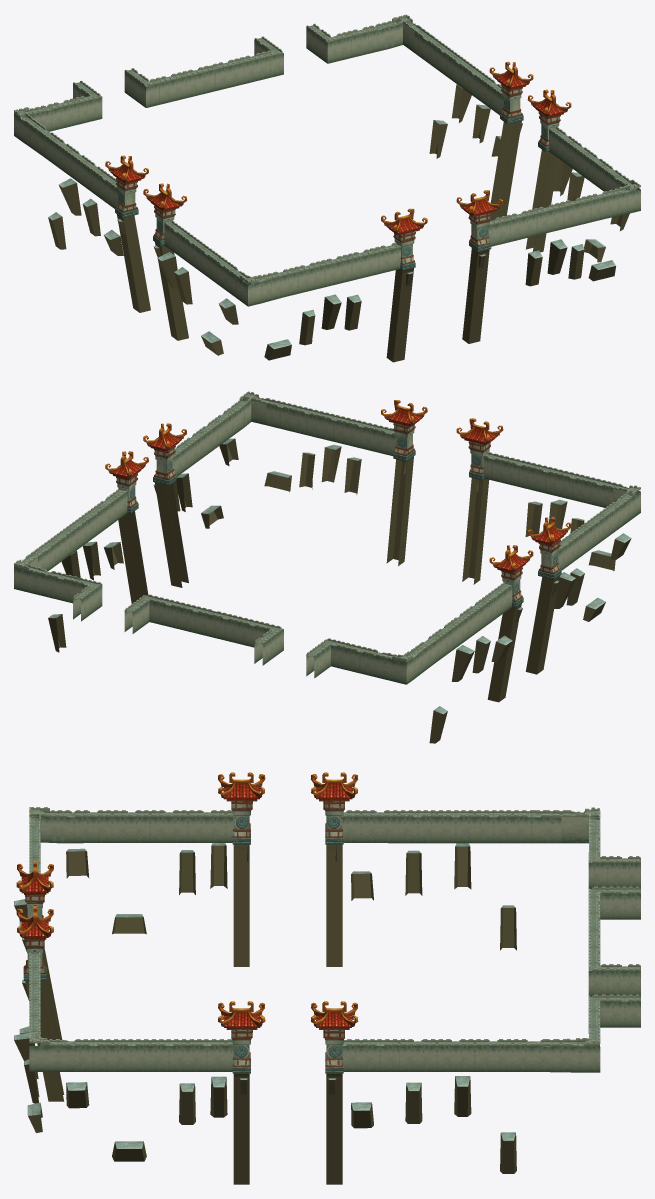
Rendered from weiqiangb.FBX.
3 views of the same model, one above another, from view 1: azimuth 30°, elevation 25°; view 2: azimuth 150°, elevation 25°; view 3: azimuth 270°, elevation 25° (orthographic). The views are drawn at different scales.
Visible parts, largest first — view 1: Box049; view 2: Box049; view 3: Box049.
Part boxes in pixels (x1,y1,x2,y2): Box049: [14, 14, 640, 362]; Box049: [14, 391, 640, 743]; Box049: [14, 772, 640, 1184].
Size of the model in its own units: 3949 by 1405 by 4243.
